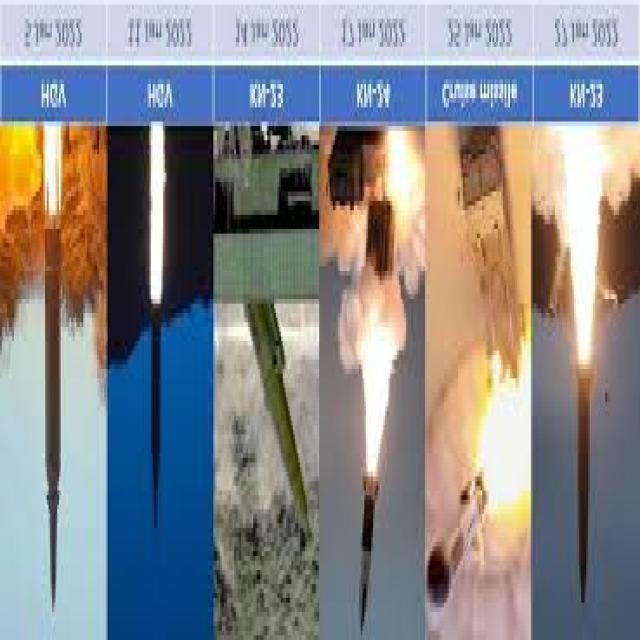Missile: (242, 293, 314, 561), (42, 204, 65, 620), (354, 462, 389, 638), (576, 346, 596, 615), (146, 295, 167, 540)
